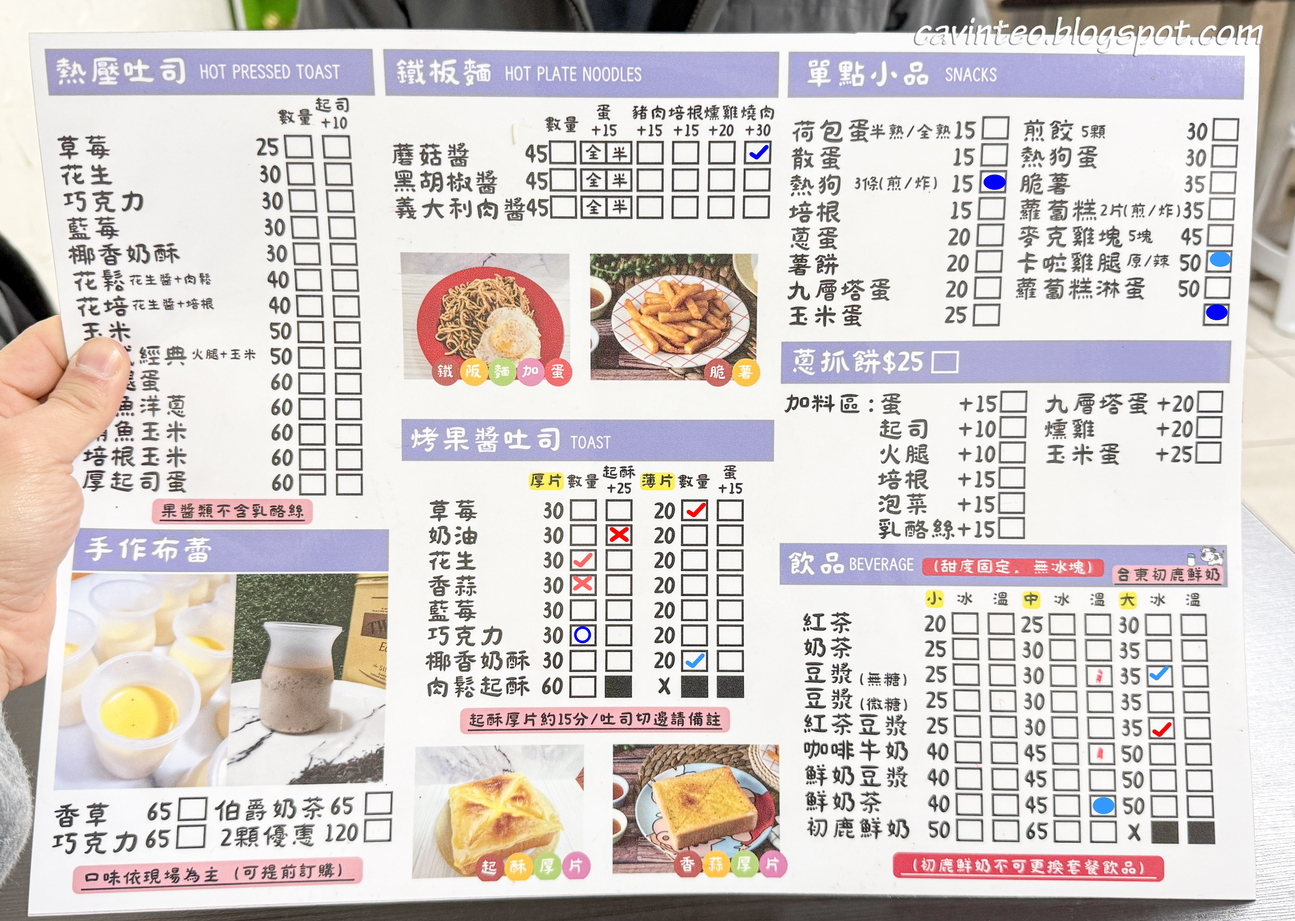marked_item: (683, 652, 708, 670), (747, 143, 772, 161), (1091, 797, 1116, 815), (1204, 303, 1229, 321), (1208, 251, 1233, 269), (570, 574, 595, 592), (684, 501, 709, 519), (1150, 721, 1175, 739), (570, 626, 595, 644), (982, 173, 1007, 191), (571, 551, 596, 569), (607, 525, 632, 543), (1147, 664, 1172, 682)
